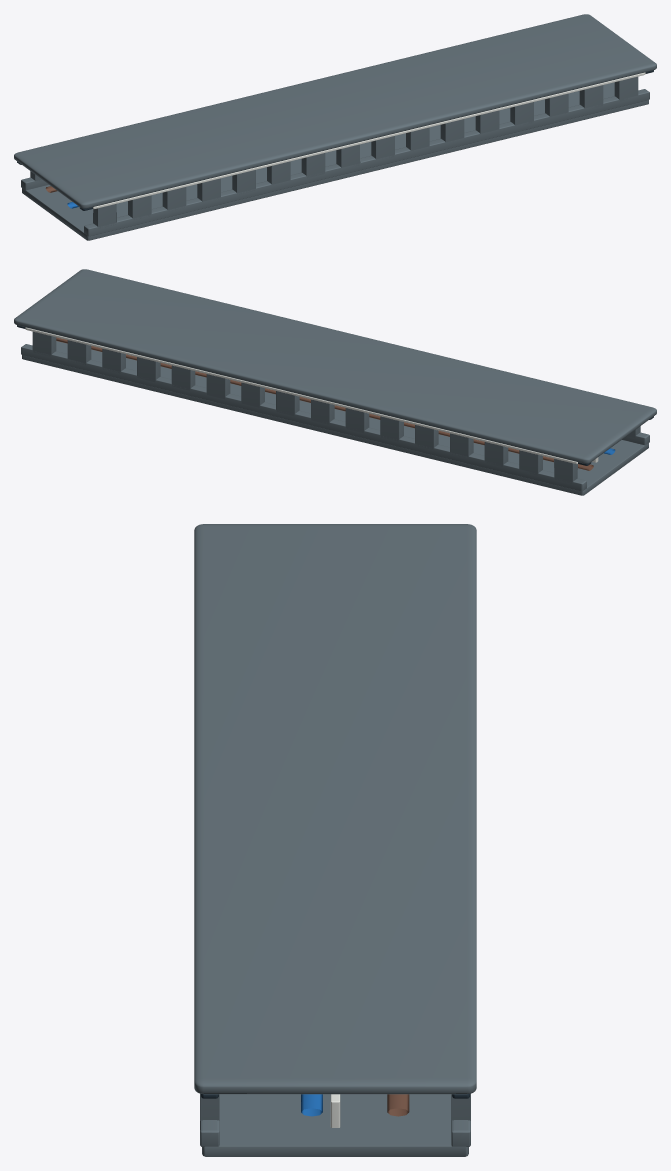
Rendered from conduit_slotted-trunking.glb.
3 views of the same model, one above another, from view 1: azimuth 30°, elevation 25°; view 2: azimuth 150°, elevation 25°; view 3: azimuth 270°, elevation 25° (orthographic). The views are drawn at different scales.
Parts seen in each view (by area): view 1: part:cover, part:body · Original 0905ee26, detail:cable-management-construction · Detail porcelain whit; view 2: part:cover, part:body · Original 0905ee26, detail:cable-management-construction · Detail porcelain whit, part:sheath; view 3: part:cover, part:body · Original 0905ee26, part:sheath.
Boxes of the visible parts, x1=… form: part:cover: x1=14, y1=14, x2=656, y2=208; part:body · Original 0905ee26: x1=21, y1=76, x2=649, y2=240; detail:cable-management-construction · Detail porcelain whit: x1=93, y1=72, x2=645, y2=209; part:cover: x1=14, y1=269, x2=656, y2=463; part:body · Original 0905ee26: x1=21, y1=331, x2=649, y2=495; detail:cable-management-construction · Detail porcelain whit: x1=25, y1=327, x2=598, y2=464; part:sheath: x1=56, y1=337, x2=615, y2=470; part:cover: x1=194, y1=524, x2=476, y2=1094; part:body · Original 0905ee26: x1=200, y1=1093, x2=470, y2=1156; part:sheath: x1=301, y1=1094, x2=409, y2=1116.
Size of the model in its own units: 1.4 by 0.1022 by 0.2965.
